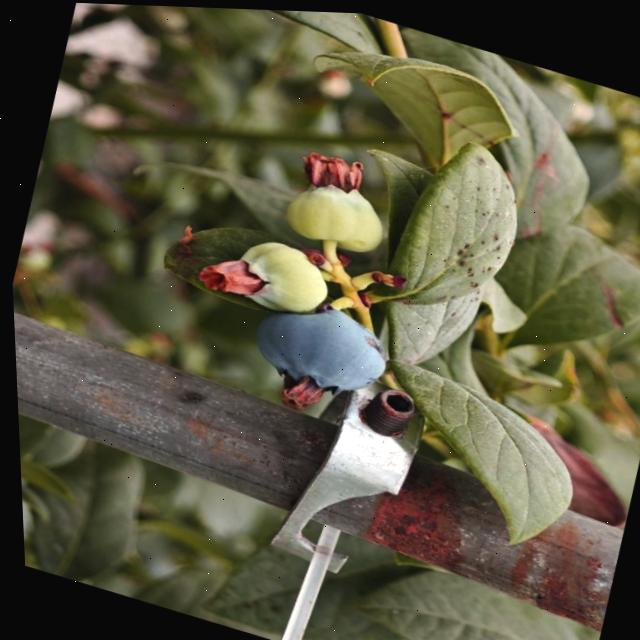RipeBlueBerry: (238, 285, 395, 406)
UnripeBlueBerry: (272, 154, 397, 259), (218, 226, 336, 322)
